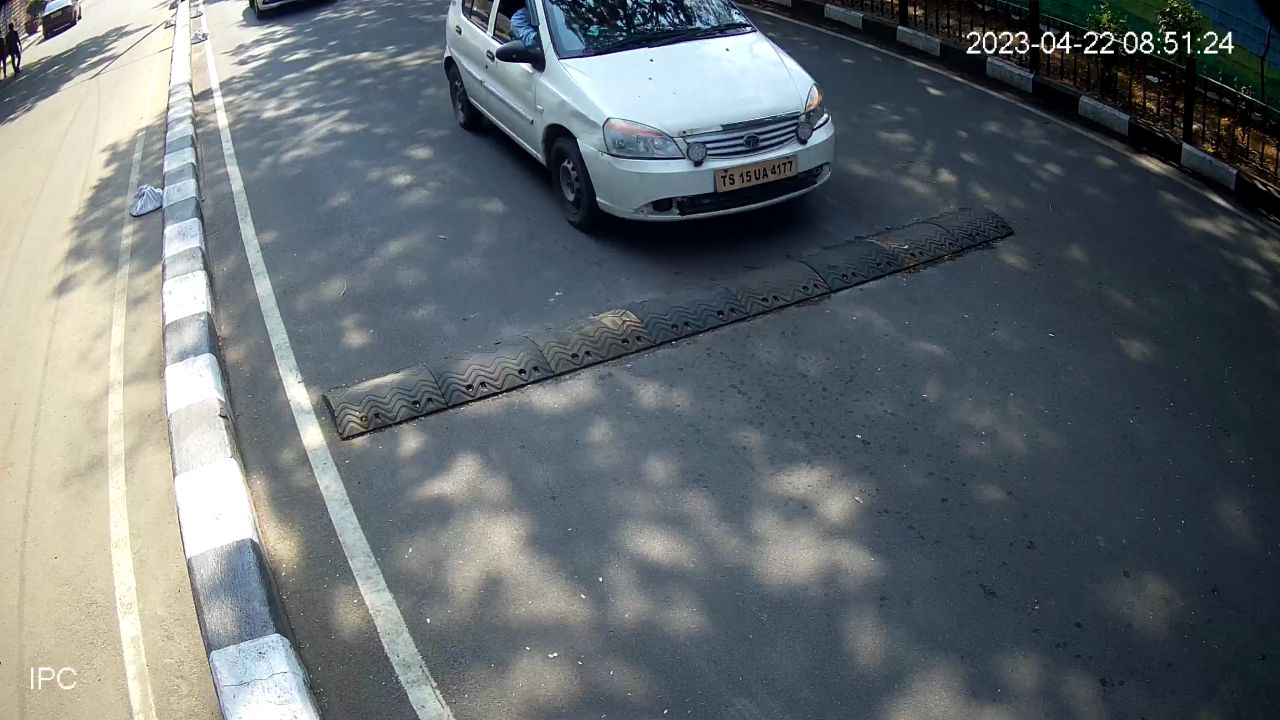license_plate: (711, 150, 802, 198)
